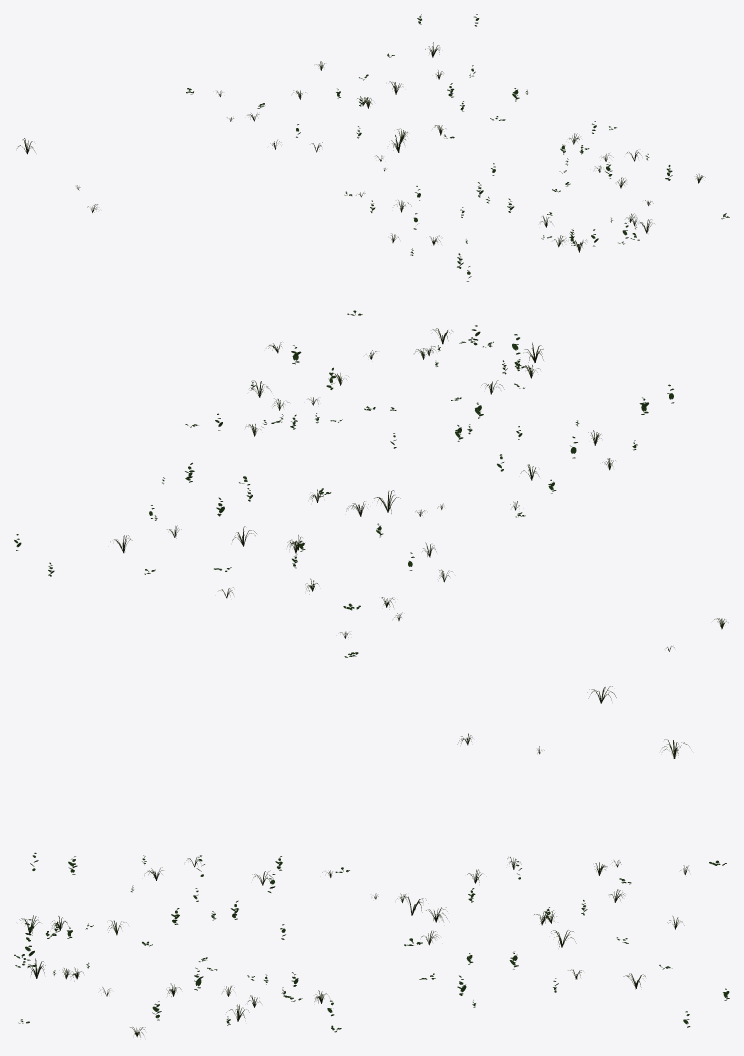
Rendered from weeds_-02-01_foliage.dae.
3 renders of one model, top to bottom at view 1: azimuth 30°, elevation 25°; view 2: azimuth 150°, elevation 25°; view 3: azimuth 270°, elevation 25°, orthographic. The views are drawn at different scales.
Parts seen in each view (by area): view 1: weeds_-02-01_foliage; view 2: weeds_-02-01_foliage; view 3: weeds_-02-01_foliage.
Boxes of the visible parts, x1,y1,x2,y2 form: weeds_-02-01_foliage: (17, 14, 729, 281); weeds_-02-01_foliage: (14, 310, 728, 703); weeds_-02-01_foliage: (14, 733, 729, 1037).
Size of the model in its own units: 10.2 by 9.94 by 0.6214.
